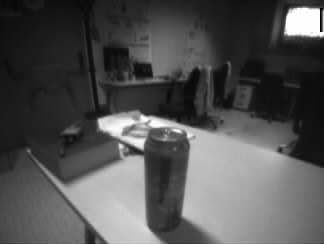Tin can: (145, 128, 186, 232)
